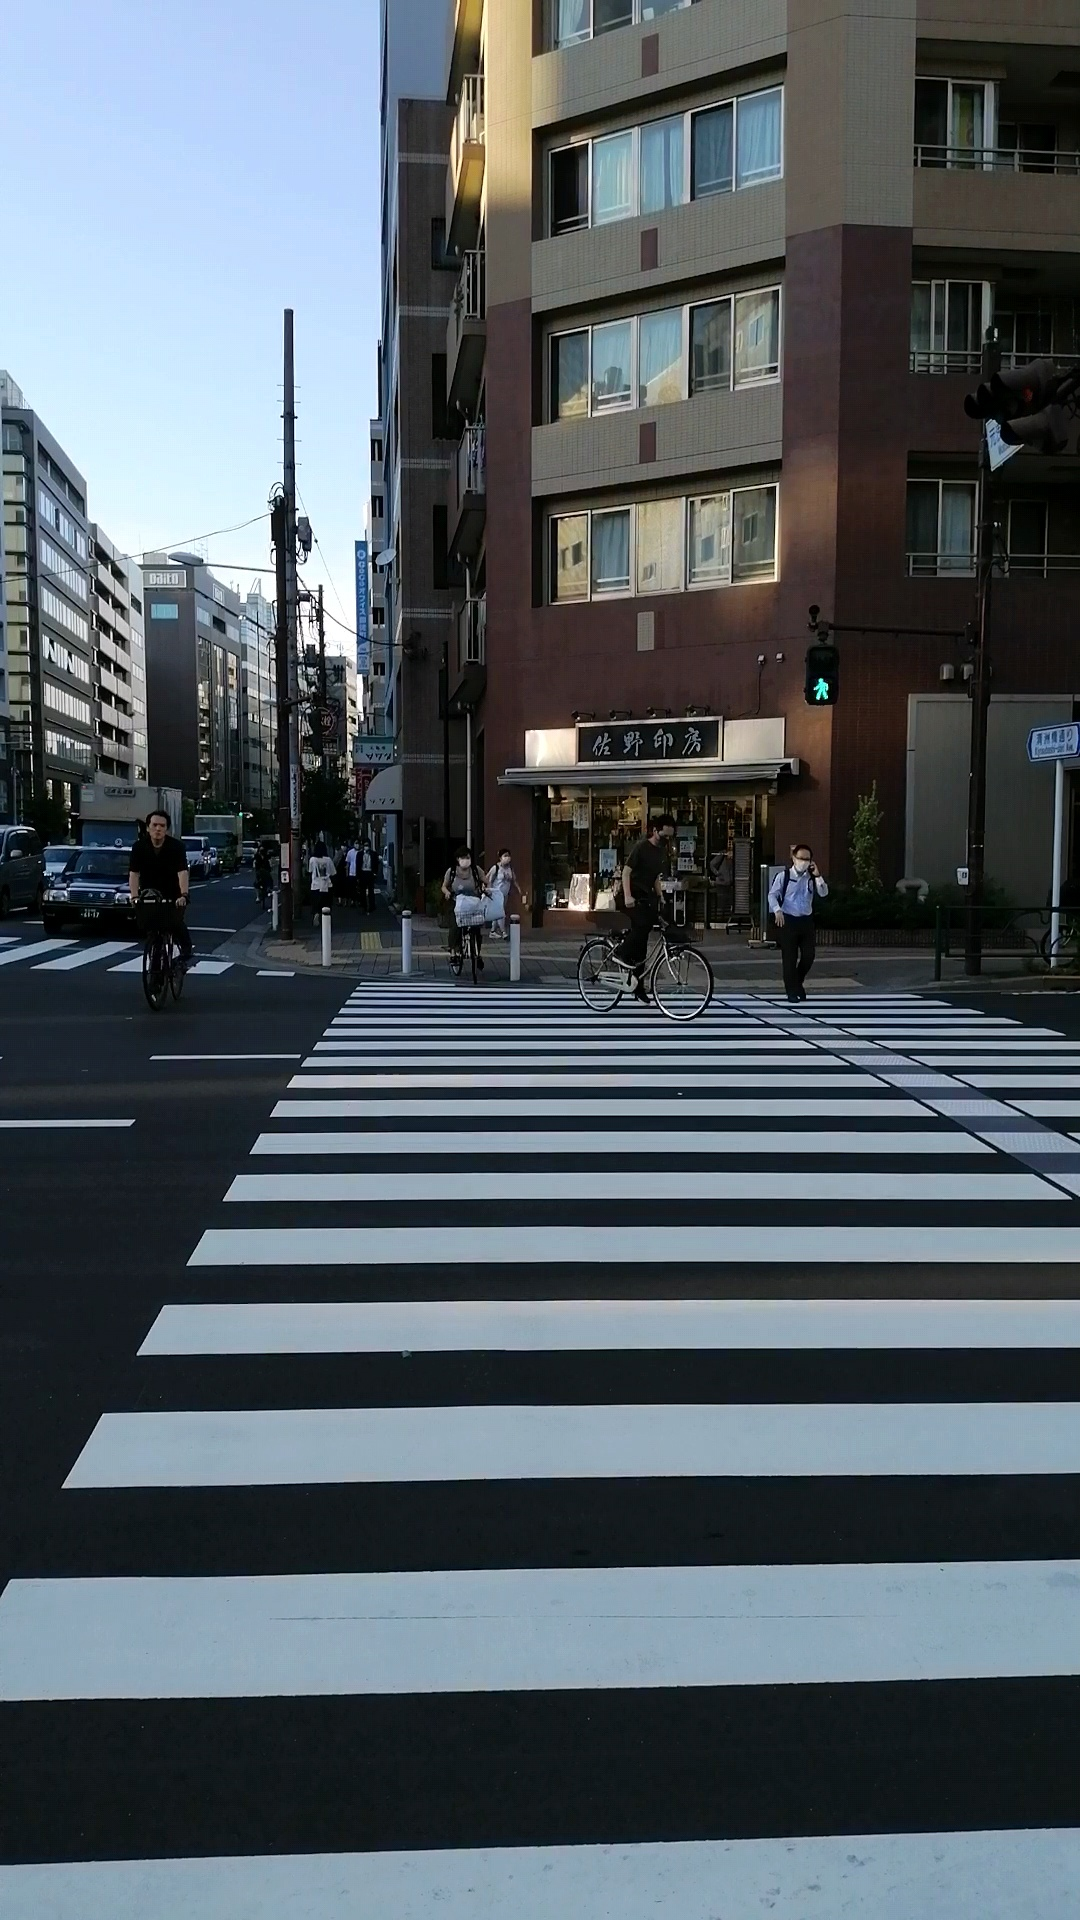green: (802, 642, 837, 708)
